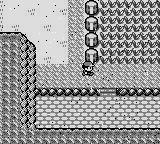captura: (100, 0, 160, 64)
main: (82, 61, 95, 76)
no-caminable: (1, 33, 160, 143), (84, 0, 100, 63)
salto: (37, 88, 98, 95), (116, 88, 160, 95)
